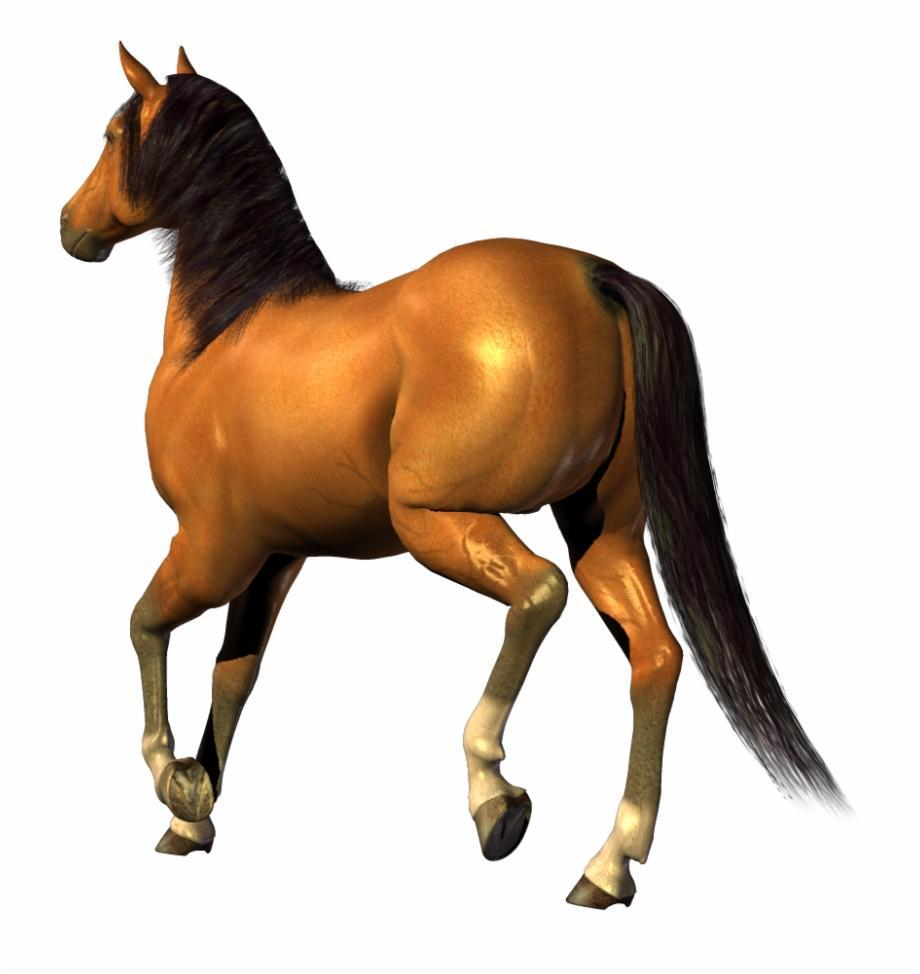horse: (50, 30, 860, 919)
